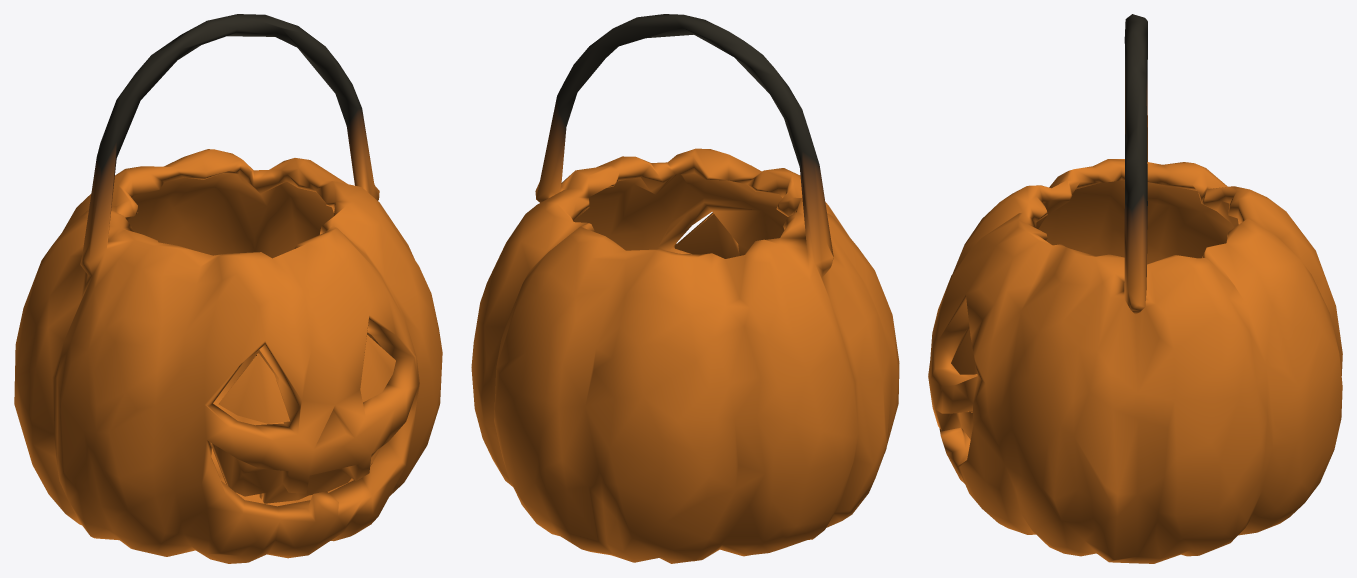
Rendered from pumpkin-pail.glb.
The picture shows the model from 3 angles, left to right: view 1: azimuth 30°, elevation 25°; view 2: azimuth 150°, elevation 25°; view 3: azimuth 270°, elevation 25°; orthographic projection. The views are drawn at different scales.
Visible parts, largest first — view 1: pumpkin-pail; view 2: pumpkin-pail; view 3: pumpkin-pail.
Part boxes in pixels (x1=…): pumpkin-pail: x1=14, y1=14, x2=442, y2=563; pumpkin-pail: x1=471, y1=14, x2=899, y2=563; pumpkin-pail: x1=928, y1=14, x2=1342, y2=563.
Size of the model in its own units: 0.3354 by 0.43 by 0.3348.
